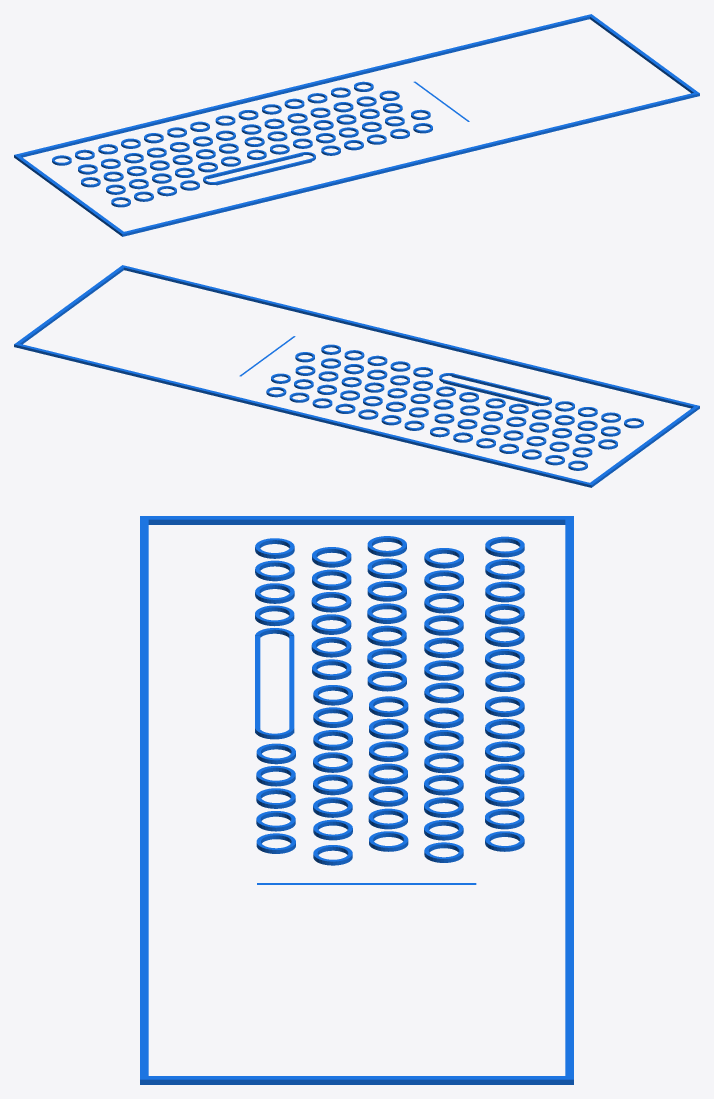
The model's file is my_keyboard.dae.
The picture shows the model from 3 angles, top to bottom: view 1: azimuth 30°, elevation 25°; view 2: azimuth 150°, elevation 25°; view 3: azimuth 270°, elevation 25°; orthographic projection. The views are drawn at different scales.
Parts seen in each view (by area): view 1: Cube, Cube_003; view 2: Cube, Cube_003; view 3: Cube, Cube_003.
Part boxes in pixels (left/top/right/bottom): Cube: left=14, top=14, right=699, bottom=236; Cube_003: left=207, top=152, right=311, bottom=185; Cube: left=14, top=265, right=699, bottom=487; Cube_003: left=443, top=373, right=547, bottom=406; Cube: left=140, top=516, right=573, bottom=1084; Cube_003: left=255, top=635, right=294, bottom=733.
Bounding box in the file's own units: 0.922 × 0.3 × 0.00476.
